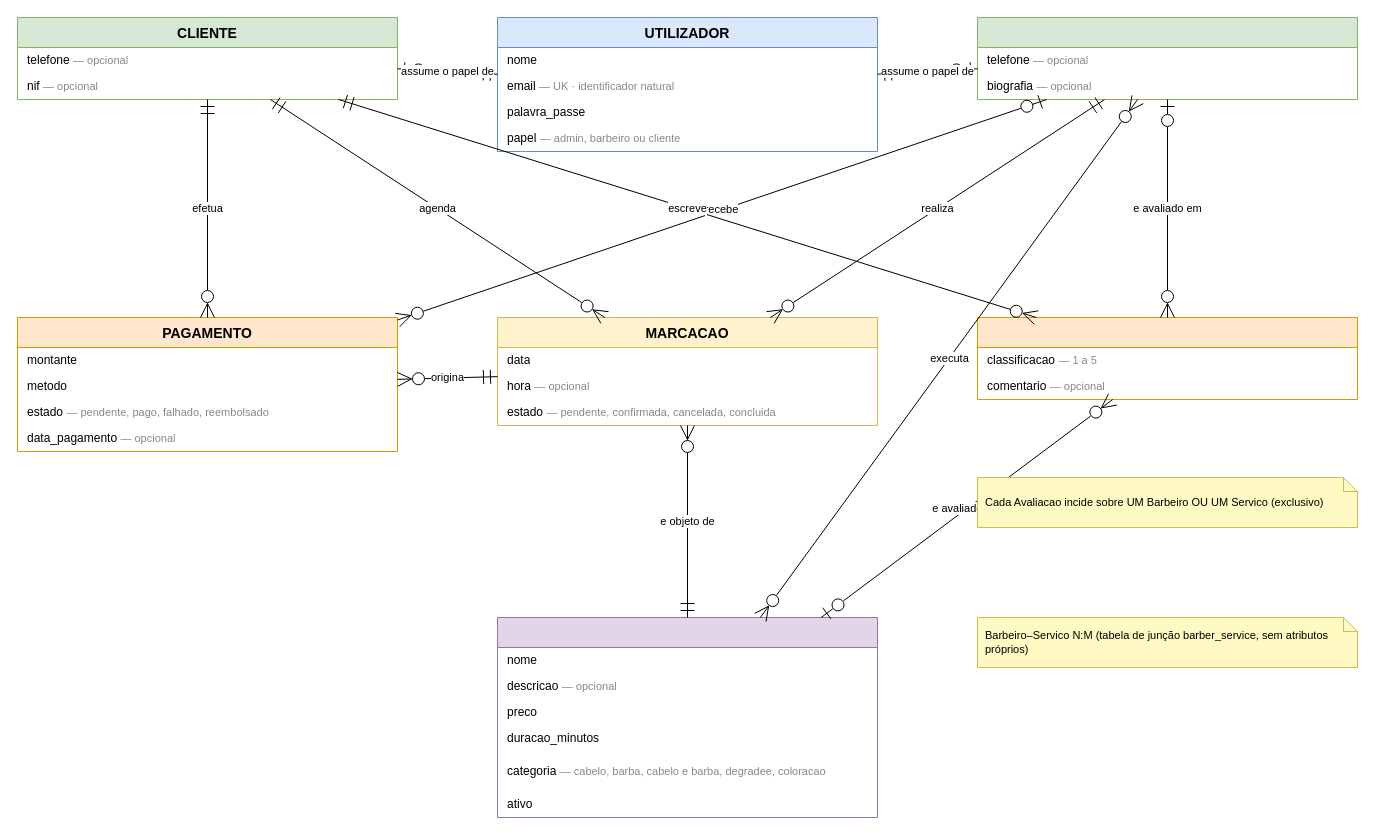
Image size: 1375x835. Some labels were removed from this diagram. The shapes that lost their labels are listed below. From the top down, each one's box as (x1, y1, x2, y2) in pixels, then its label:
(976, 16, 1358, 100): BARBEIRO
(976, 316, 1358, 400): AVALIACAO
(496, 616, 878, 818): SERVICO
